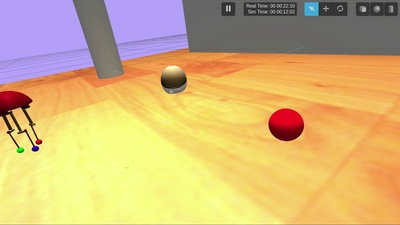mira_robot: (161, 65, 188, 94)
